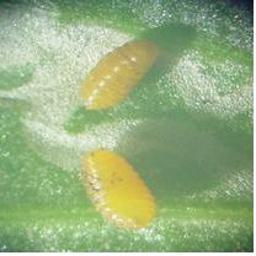liriomyza: (76, 148, 158, 230), (77, 39, 159, 111)
